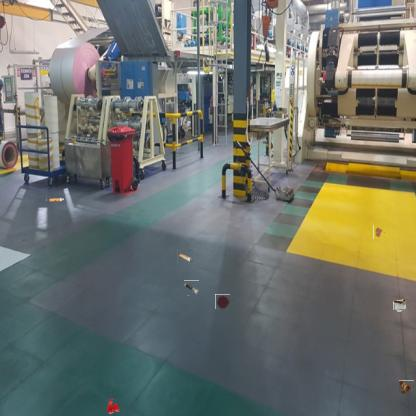dirty: (184, 280, 199, 296), (177, 250, 193, 264), (400, 380, 413, 392), (373, 226, 385, 239), (394, 300, 406, 311), (46, 196, 64, 202)
liquid: (107, 398, 121, 416), (215, 294, 230, 309)
